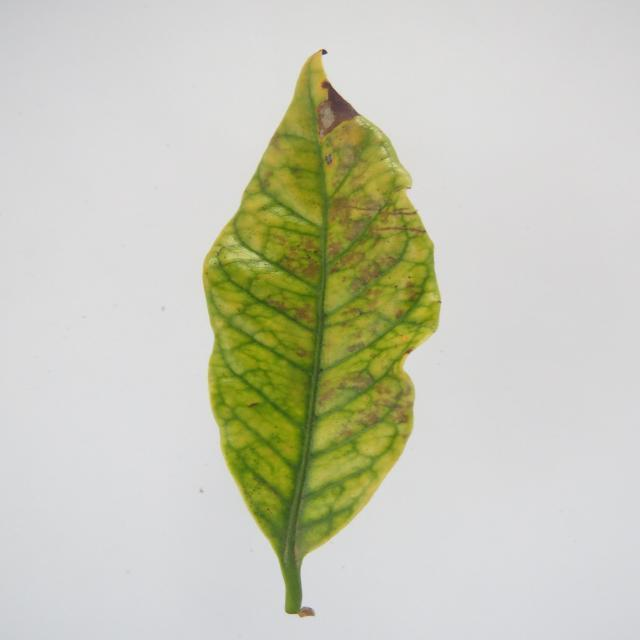DeficienciaNutricional-Hierro: (205, 49, 439, 615)
